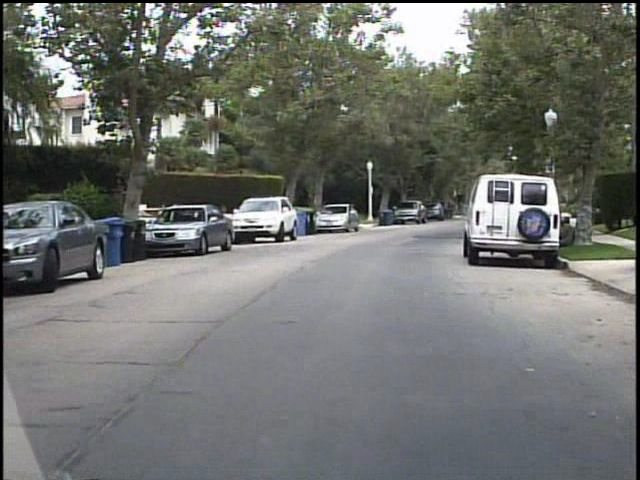person: (557, 216, 578, 252)
